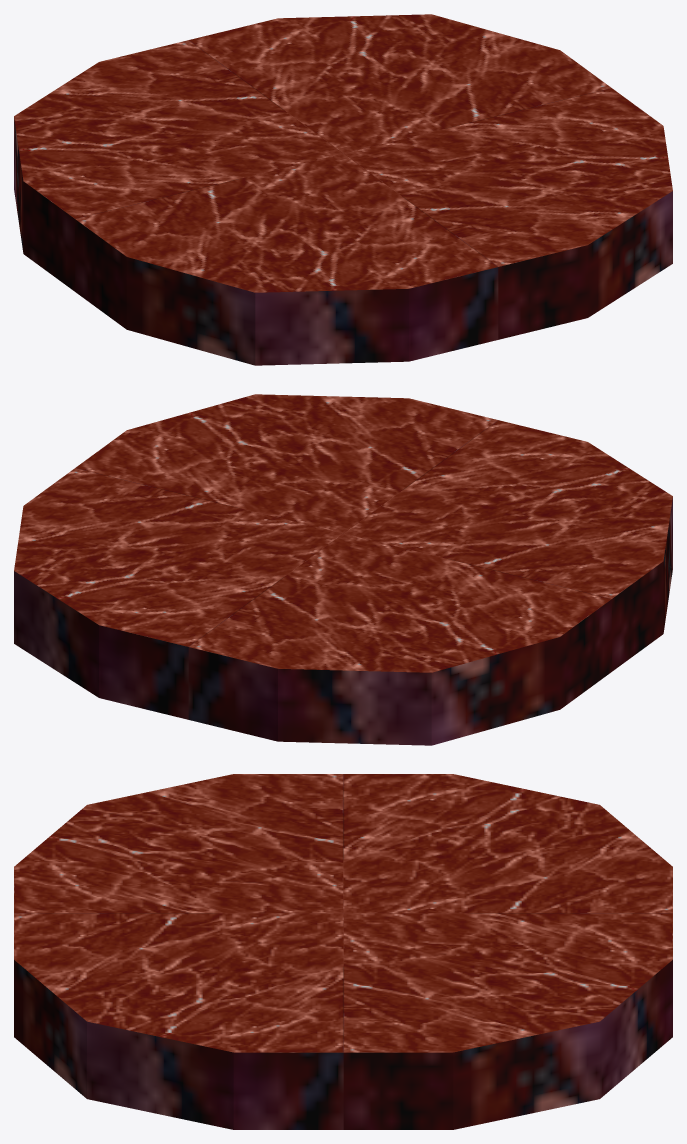
The model's file is Platform1.fbx.
3 renders of one model, top to bottom at view 1: azimuth 30°, elevation 25°; view 2: azimuth 150°, elevation 25°; view 3: azimuth 270°, elevation 25°, orthographic. The views are drawn at different scales.
Visible parts, largest first — view 1: Cube; view 2: Cube; view 3: Cube.
Part boxes in pixels (box(x1,y1,x2,y2)): Cube: box(14, 14, 672, 365); Cube: box(14, 394, 672, 745); Cube: box(14, 774, 672, 1129).
Size of the model in its own units: 15.42 by 15.42 by 2.
1 material, 1 textured.
